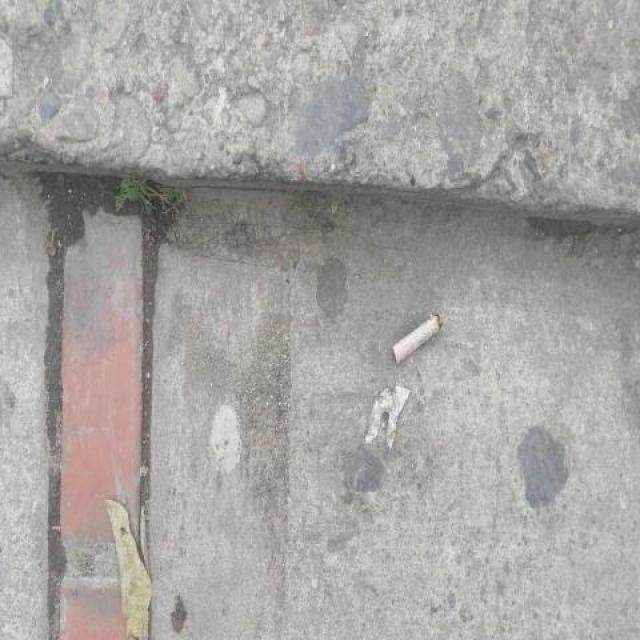non-organic waste: (389, 308, 446, 367)
